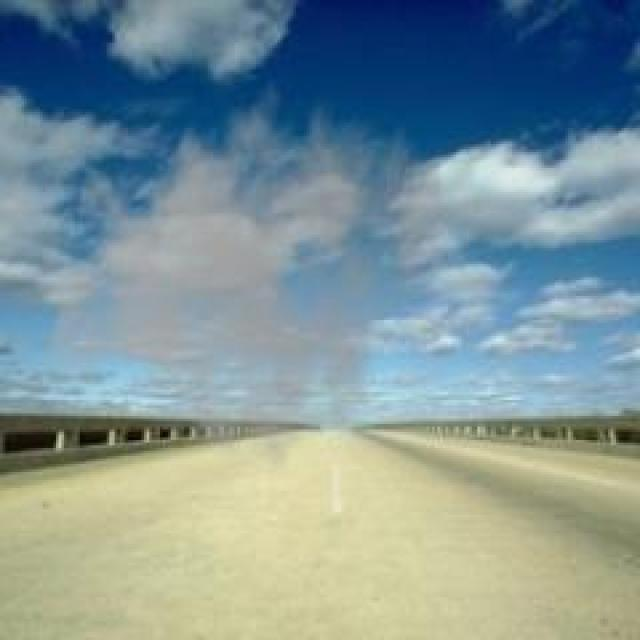Smoke: (57, 87, 414, 469)
